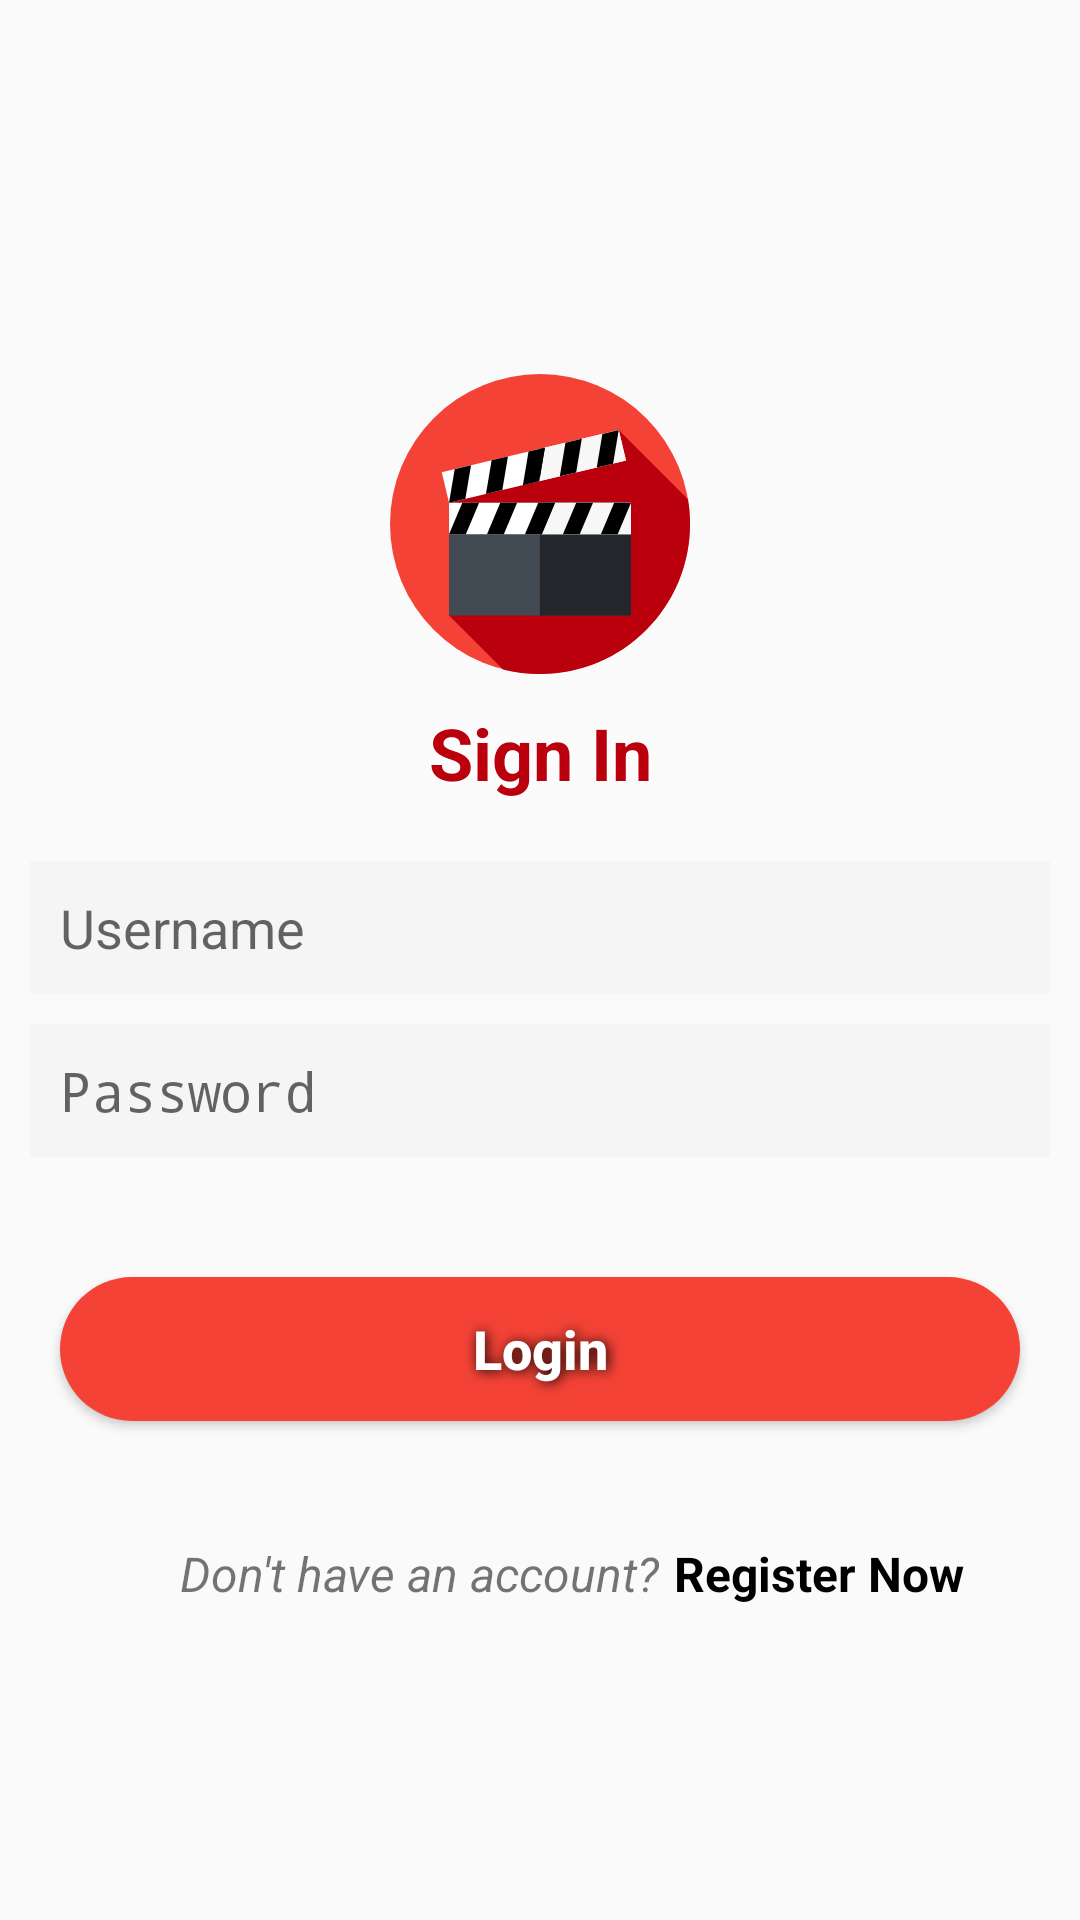

Icons on this 1080×1920 Android screen, each with the point to tap as [x,y]:
clapperboard: [540,524]
